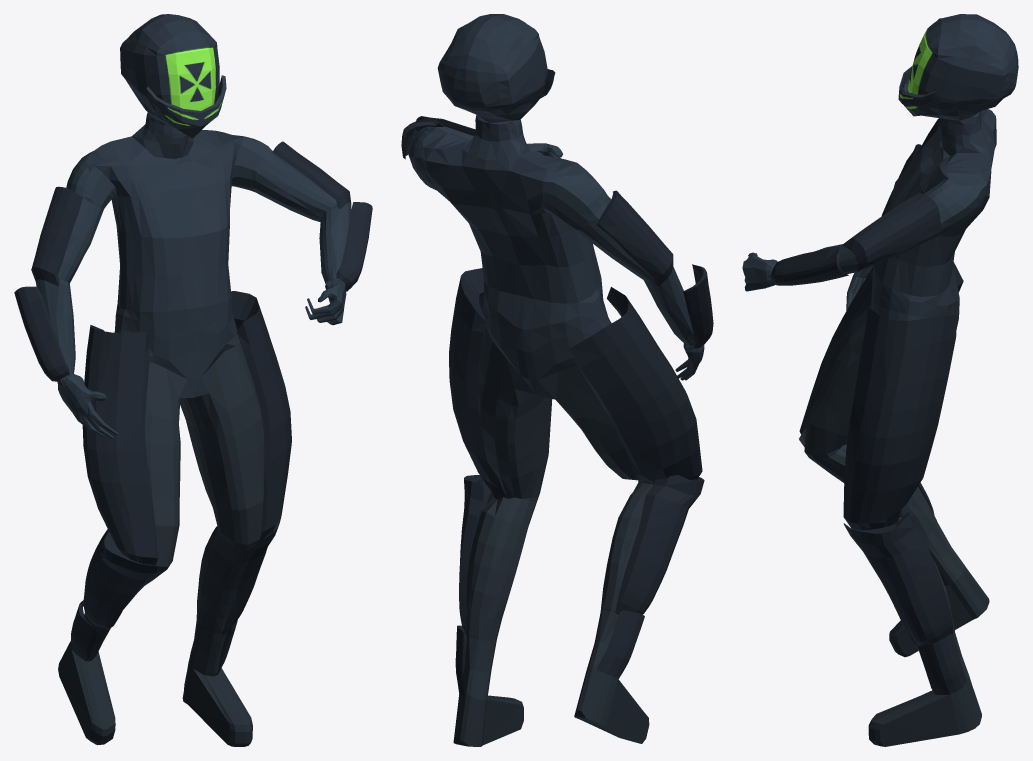
The model's file is Bastion_Hit_000006.obj.
3 views of the same model, side by side, from view 1: azimuth 30°, elevation 25°; view 2: azimuth 150°, elevation 25°; view 3: azimuth 270°, elevation 25° (orthographic). The views are drawn at different scales.
Parts seen in each view (by area): view 1: Cube.002; view 2: Cube.002; view 3: Cube.002.
Boxes of the visible parts, left/top/right/bottom form: Cube.002: left=14, top=14, right=372, bottom=746; Cube.002: left=401, top=14, right=713, bottom=746; Cube.002: left=742, top=14, right=1018, bottom=746.
Bounding box in the file's own units: 1.79 × 3.81 × 1.34.
